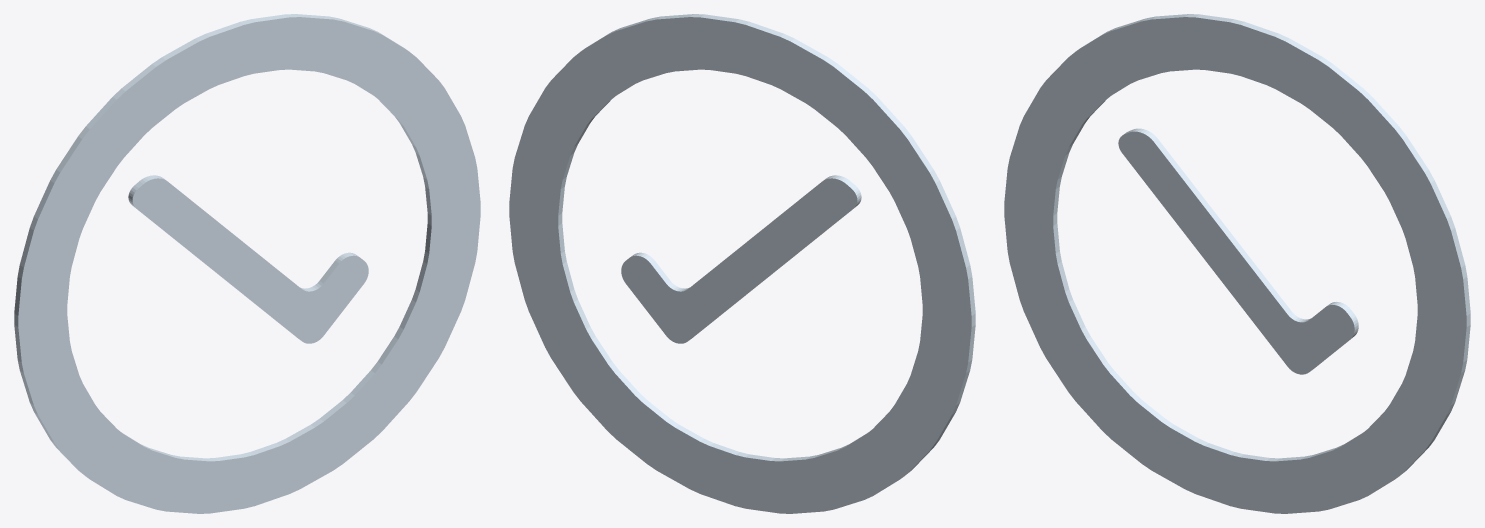
File: Checkmark_3D_Icon.fbx
3 views of the same model, side by side, from view 1: azimuth 30°, elevation 25°; view 2: azimuth 150°, elevation 25°; view 3: azimuth 330°, elevation 25° (orthographic).
Visible parts, largest first — view 1: Checkmark_3D_Icon_01; view 2: Checkmark_3D_Icon_01; view 3: Checkmark_3D_Icon_01.
Boxes of the visible parts, x1,y1,x2,y2 form: Checkmark_3D_Icon_01: (14, 14, 480, 513); Checkmark_3D_Icon_01: (509, 14, 975, 513); Checkmark_3D_Icon_01: (1004, 14, 1470, 513).
Bounding box in the file's own units: 122 × 122 × 1.9.
